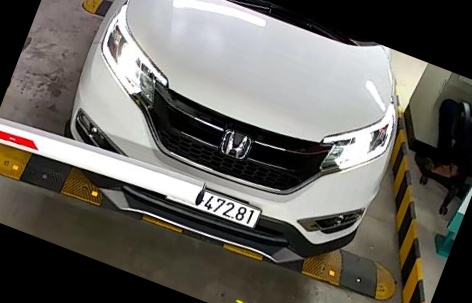plate: (183, 175, 278, 242)
